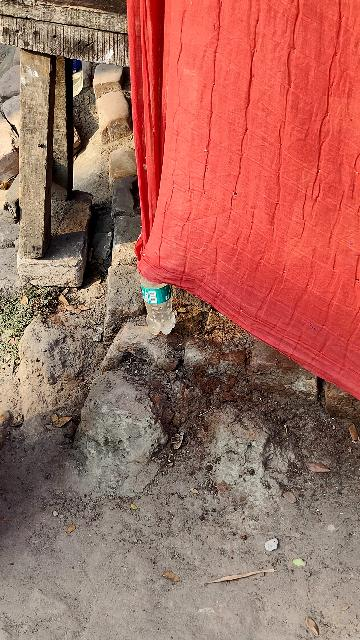bottle: (128, 254, 195, 343)
